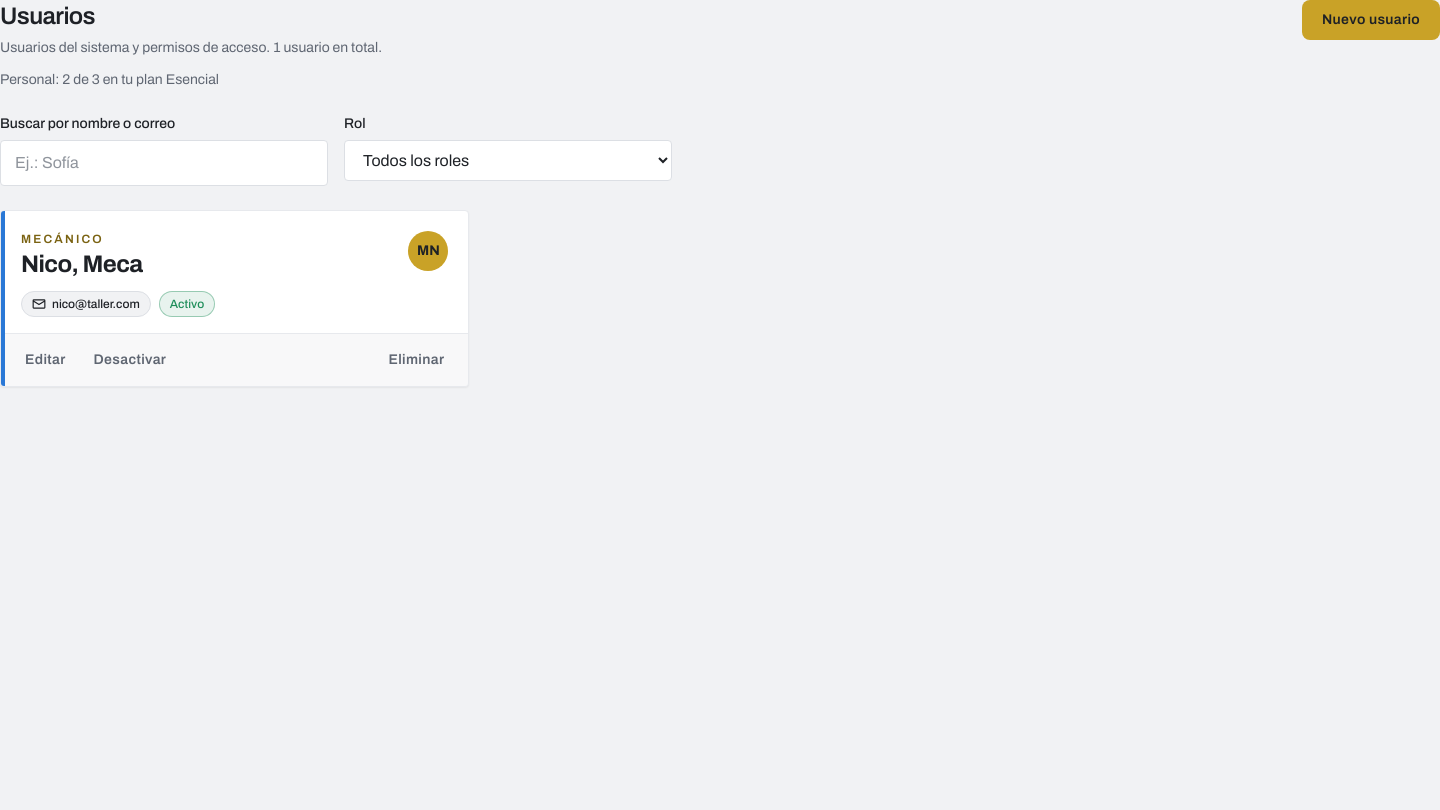
Test case: Usuarios — límite de personal del plan › el contador se actualiza después de crear y desactivar
Expected: the text "Personal: 2 de 3 en tu plan Esencial" is shown, [0,72,219,87]
Note: Crear suma uno.
Click the button "Nuevo usuario": (1371, 20) [1302,0,1439,40]
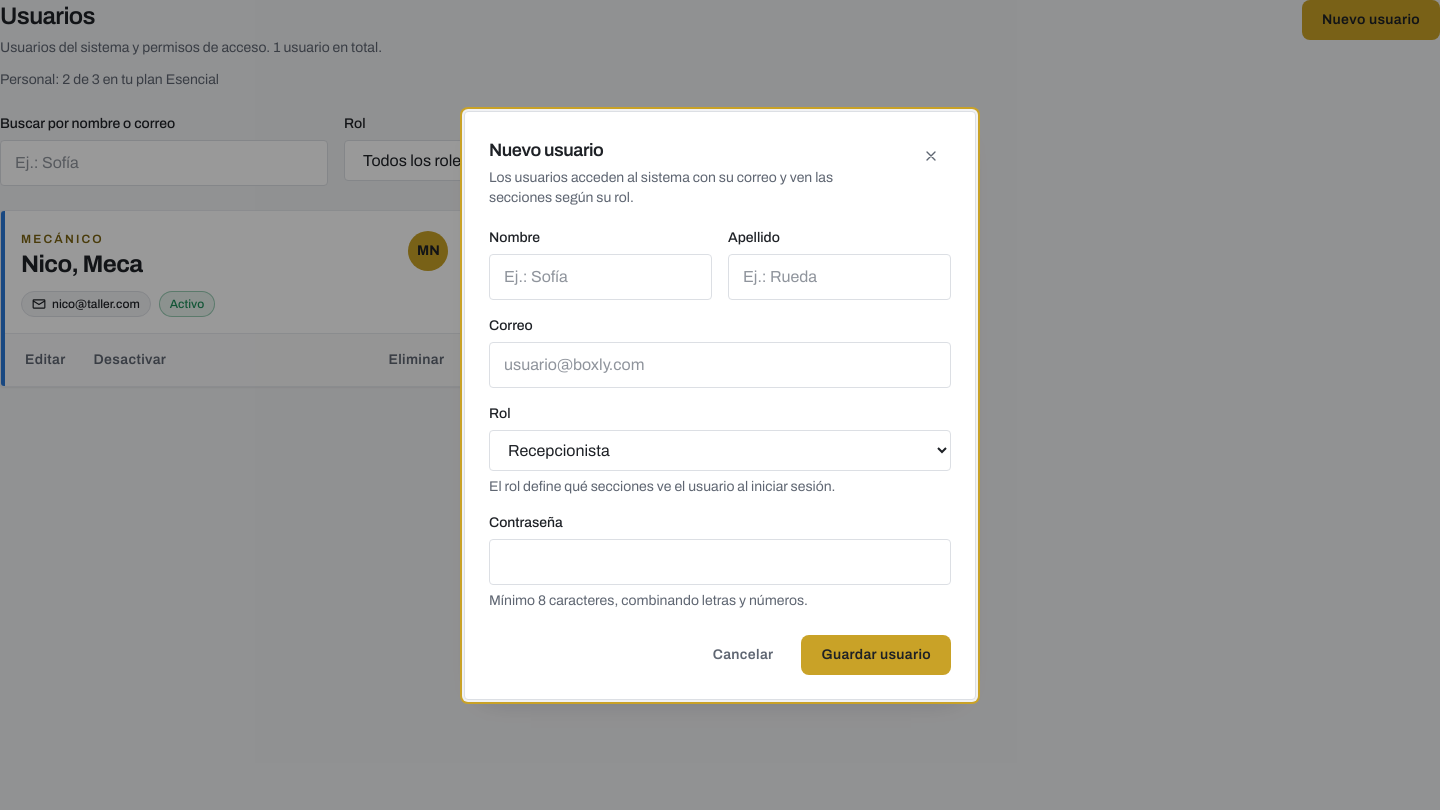
In the field labelled "Nombre": (600, 276) [489,254,712,300], type "Nuevo"
In the field labelled "Apellido": (840, 276) [728,254,951,300], type "User"
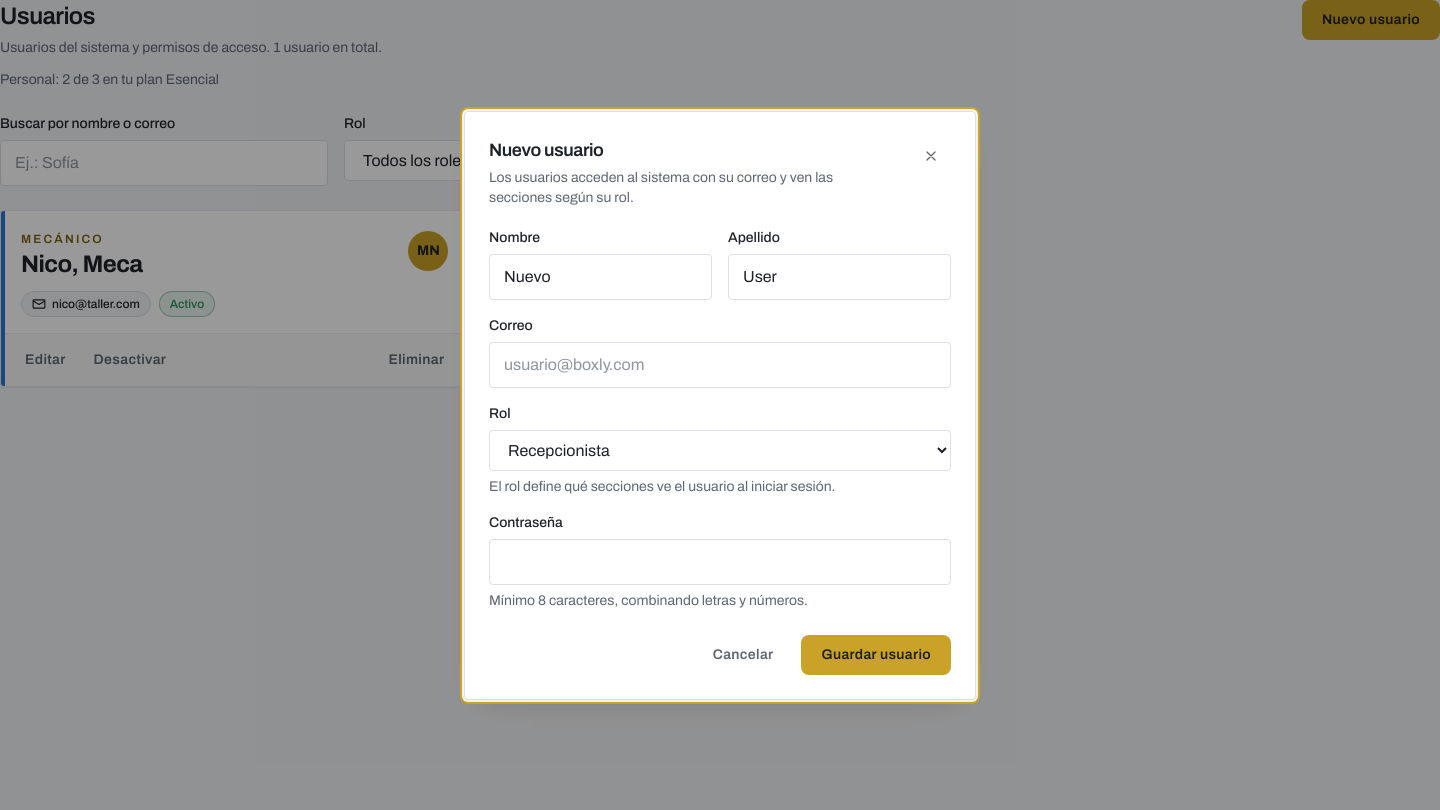
In the field labelled "Correo": (720, 364) [489,342,951,388], type "nuevo@taller.com"
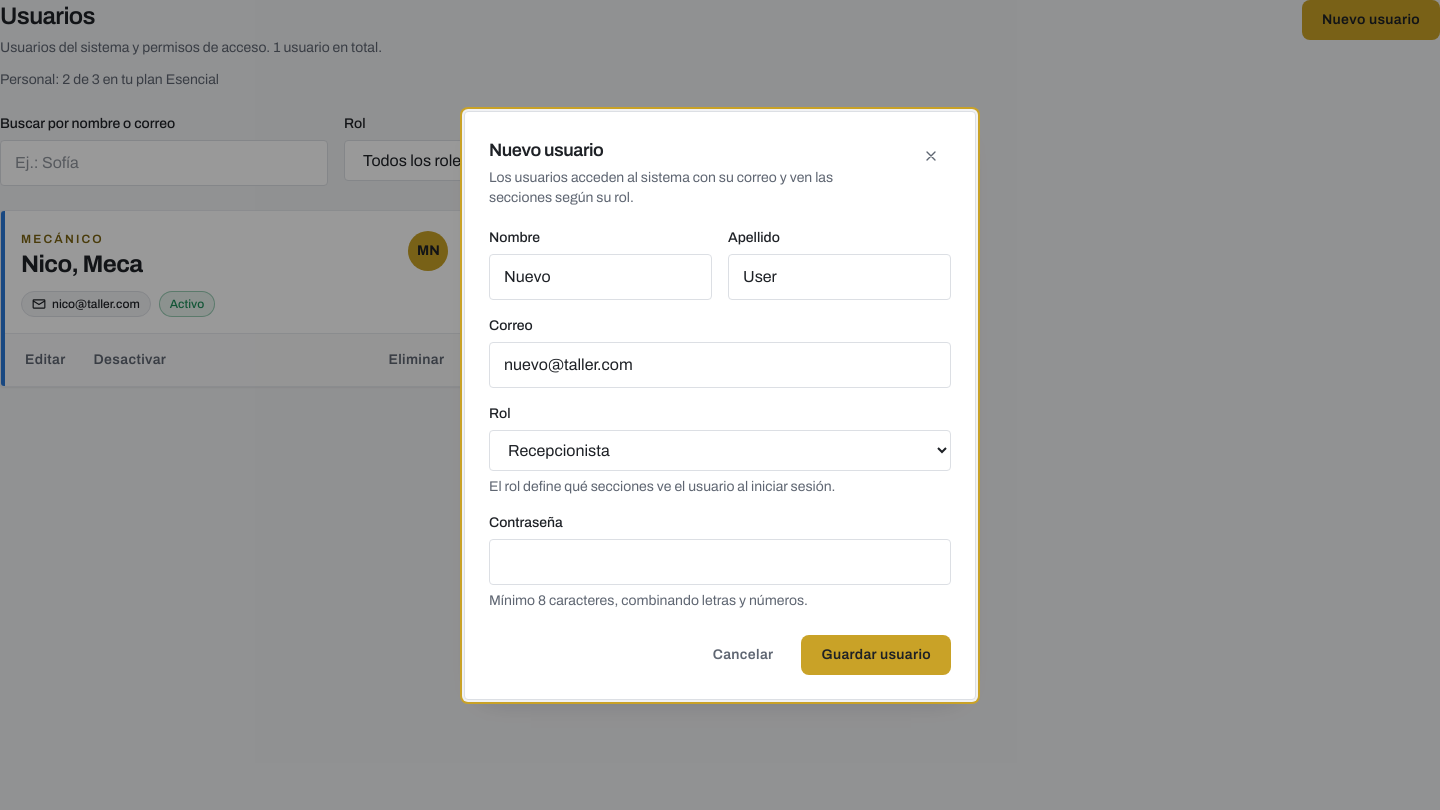
In the password field labelled "Contraseña": (720, 562) [489,538,951,584], type "Clave1234"
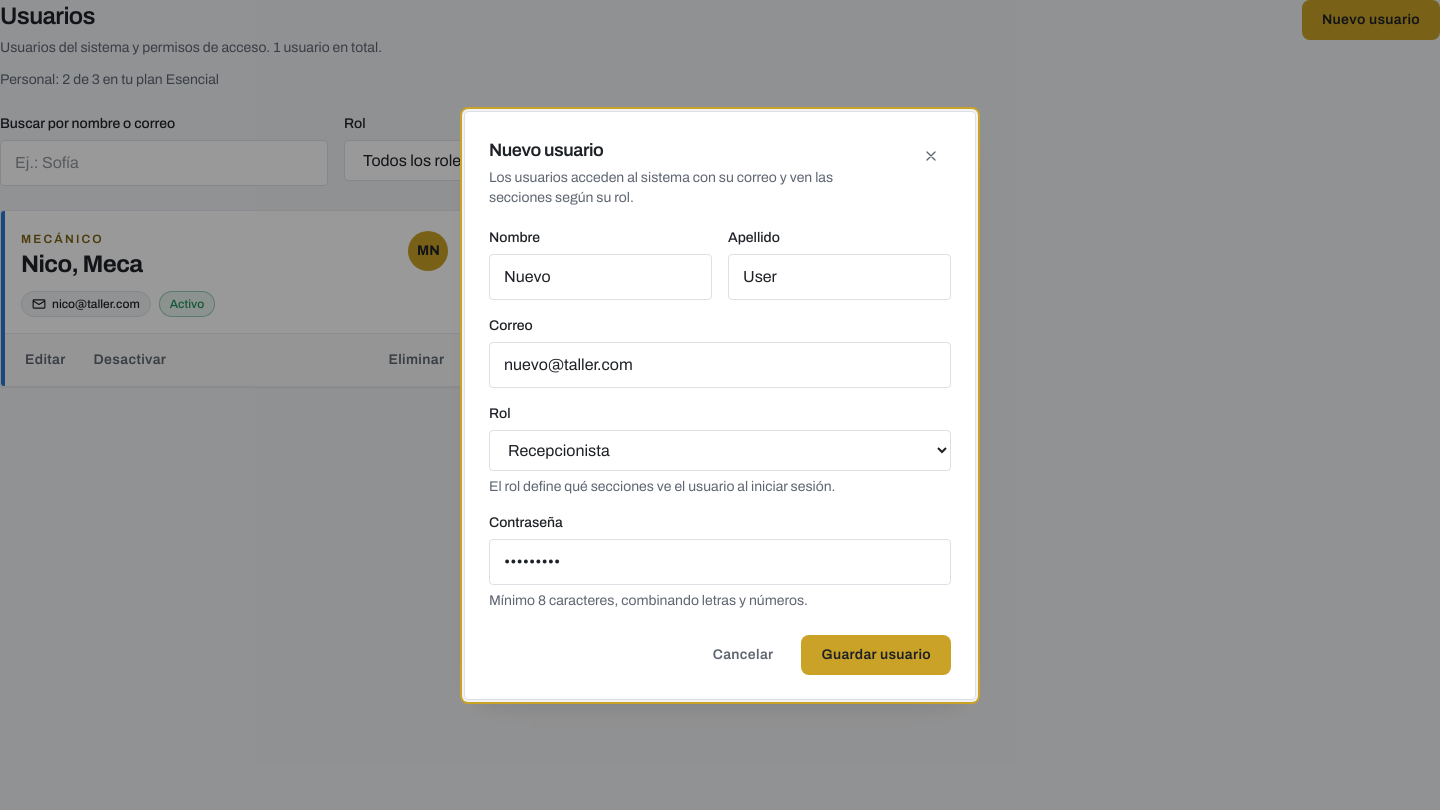
Click the button "Guardar usuario": (876, 654) [801,634,951,674]
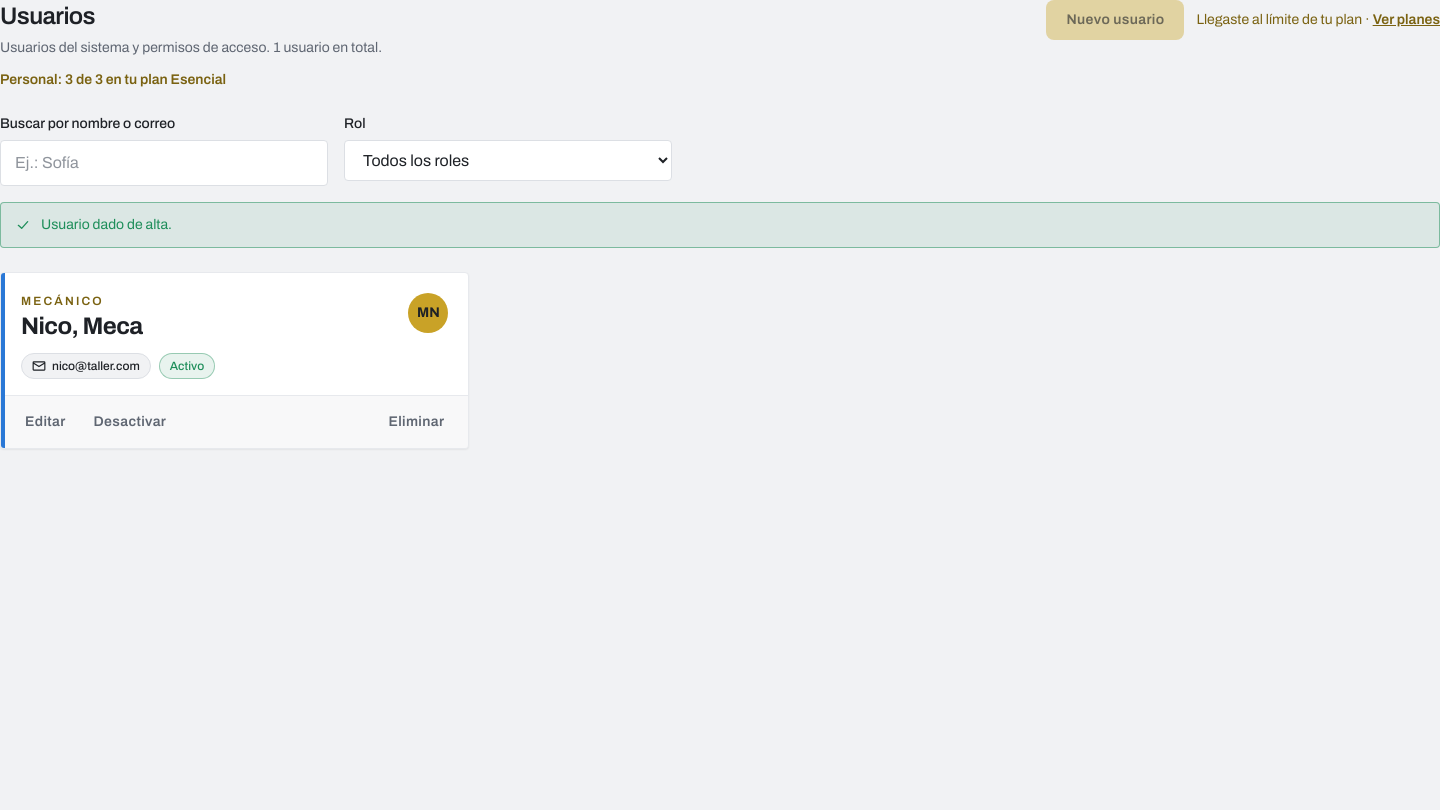
Expected: the heading "Nico, Meca" is shown, [21,311,143,341]
Expected: the text "Personal: 3 de 3 en tu plan Esencial" is shown, [0,72,226,87]
Click the button "Desactivar": (130, 422) [82,404,178,440]
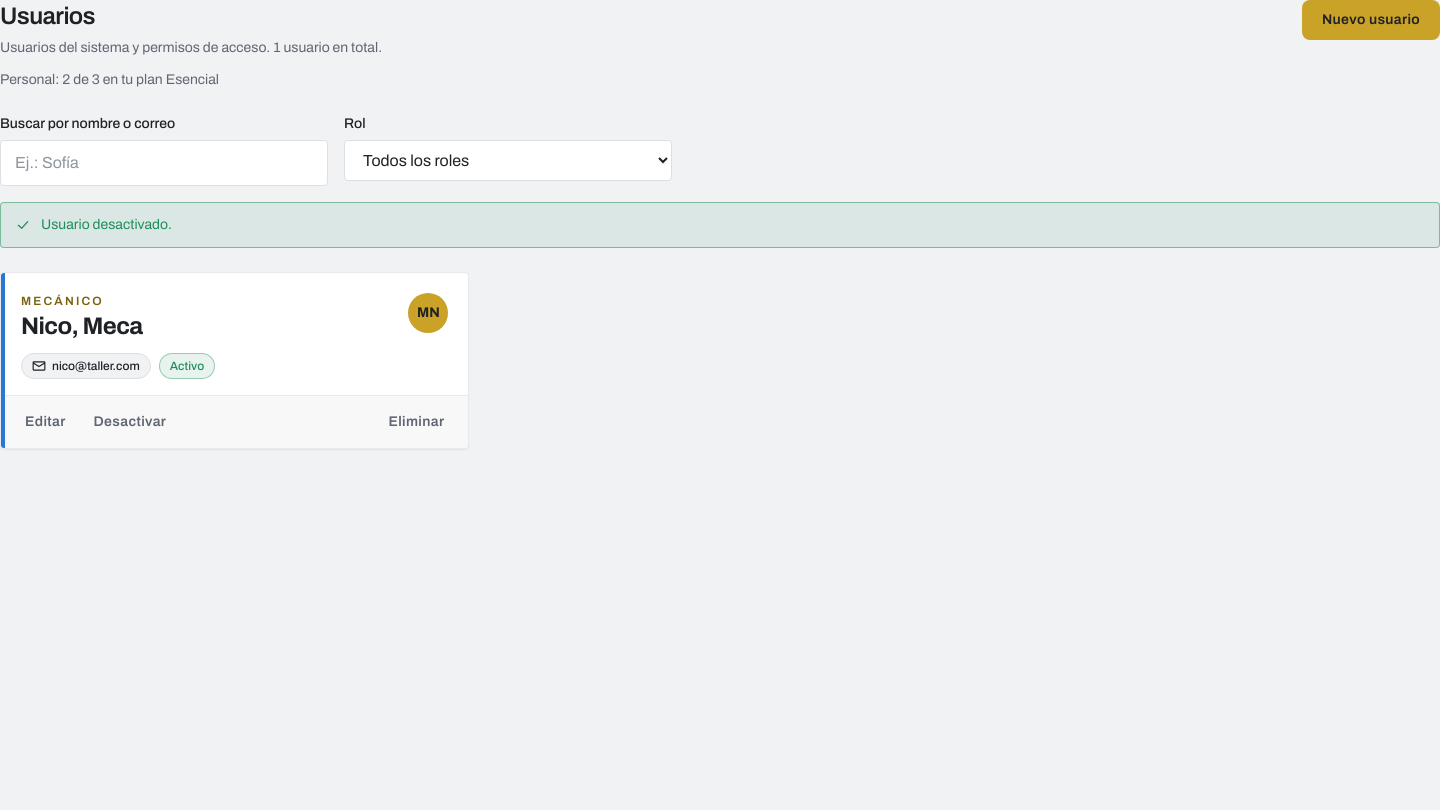
Expected: the text "Personal: 2 de 3 en tu plan Esencial" is shown, [0,72,219,87]
